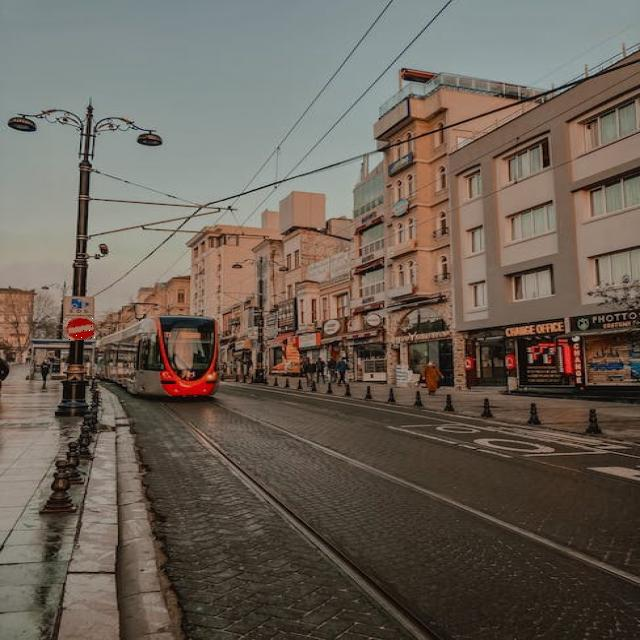no entry: (64, 317, 96, 340)
